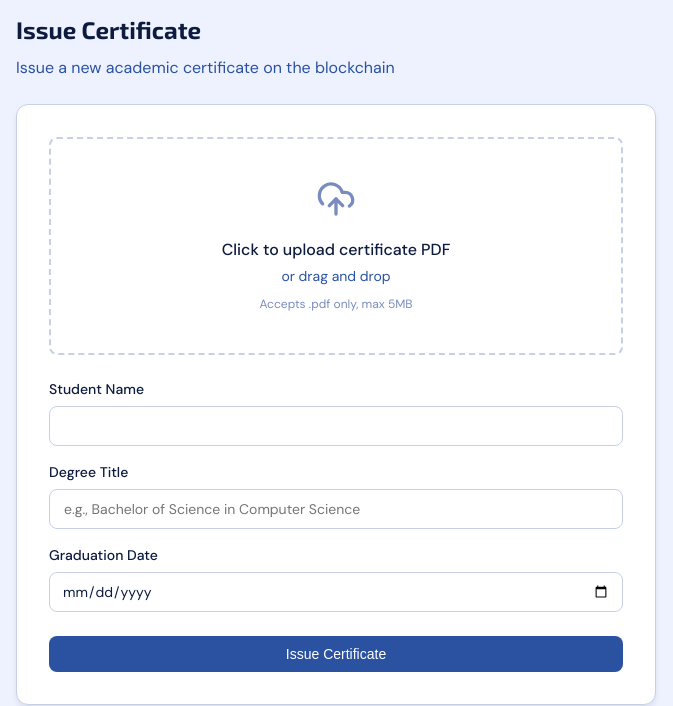
Scenario: IssueCertificate › shows file-required validation
Type "John Doe" into the field named "student_name" at (336, 426), box [49,406,623,446]
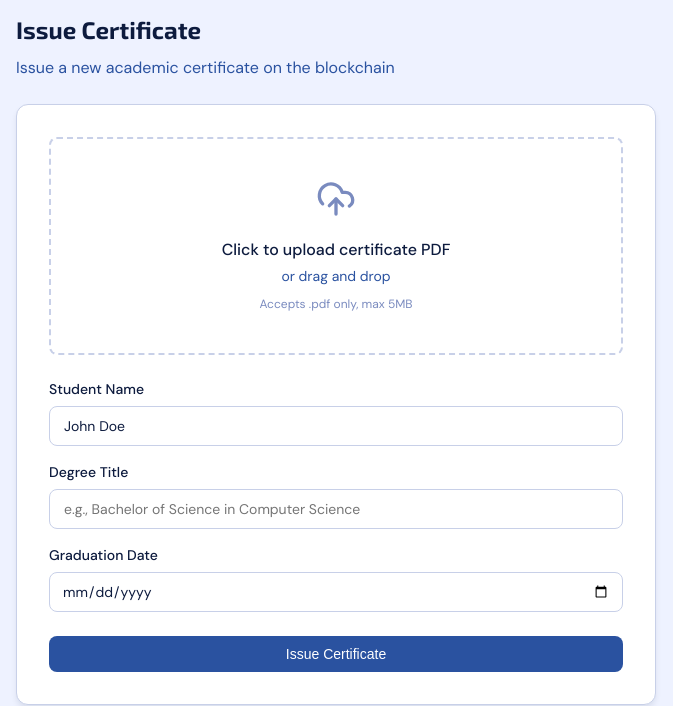
Type "CS" into the field named "major" at (336, 509), box [49,489,623,529]
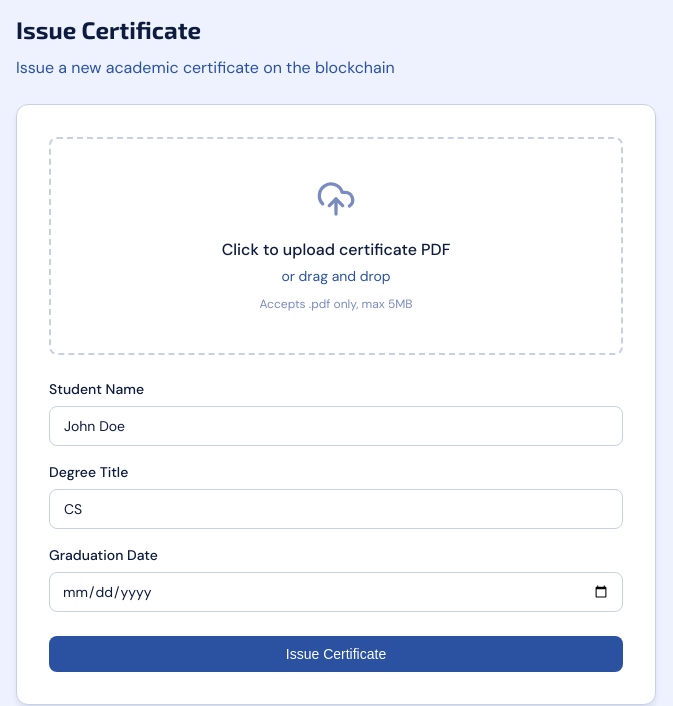
Type "2024-05-20" into the date field named "graduation_date" at (336, 592), box [49,572,623,612]
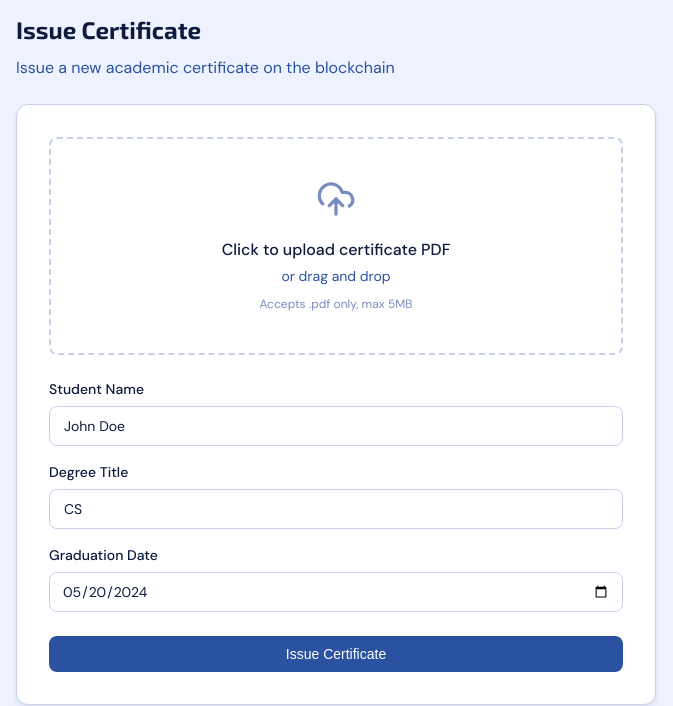
Click the button "Issue Certificate" at (336, 654), box [49,636,623,672]
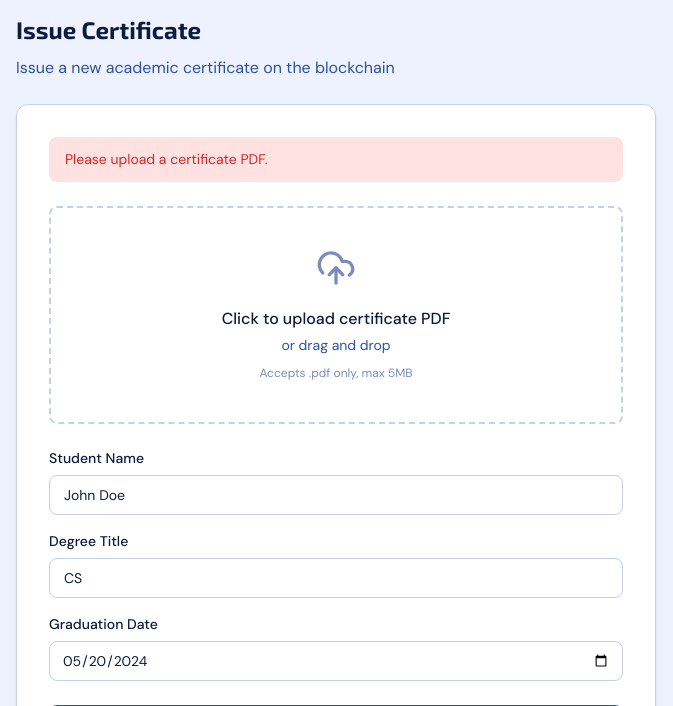
Check: the text "Please upload a certificate PDF." is shown, box [49,137,623,182]
